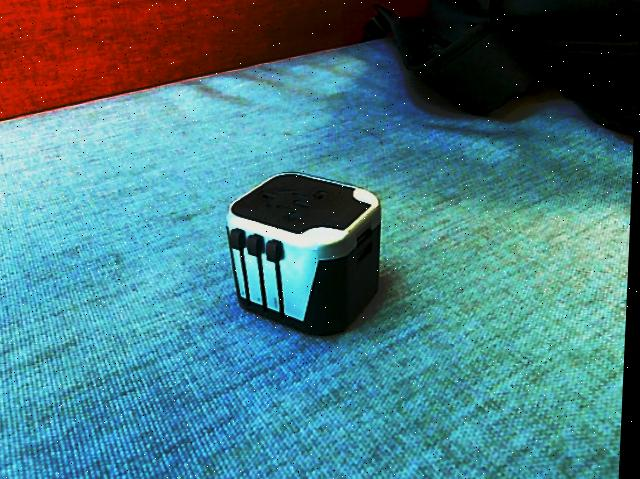adapter: (222, 171, 386, 336)
